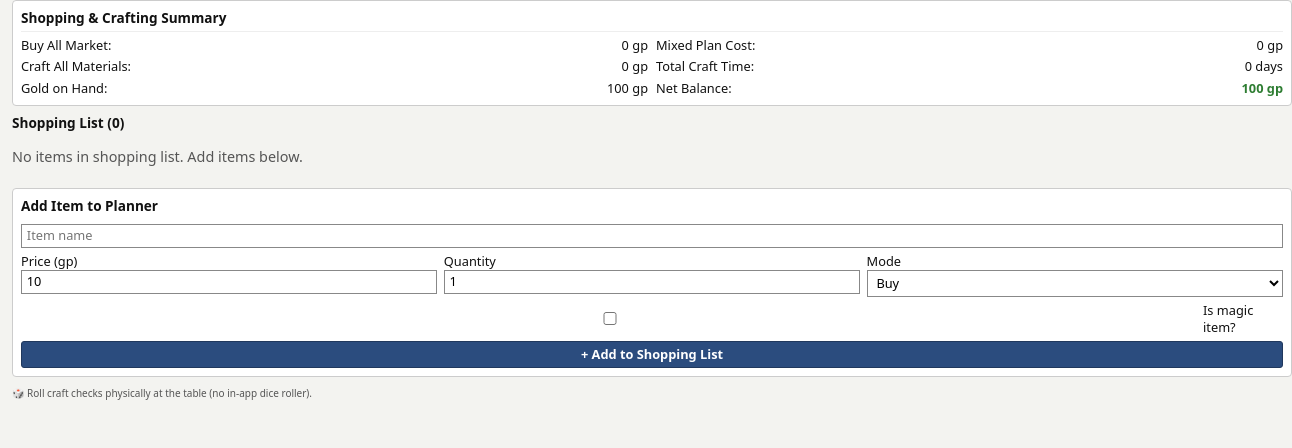
it: BudgetCalculator › adds a typed line and shows its computed cost
In the field labelled "Item name": [652, 236] box [21,224,1283,248], type "Longsword"
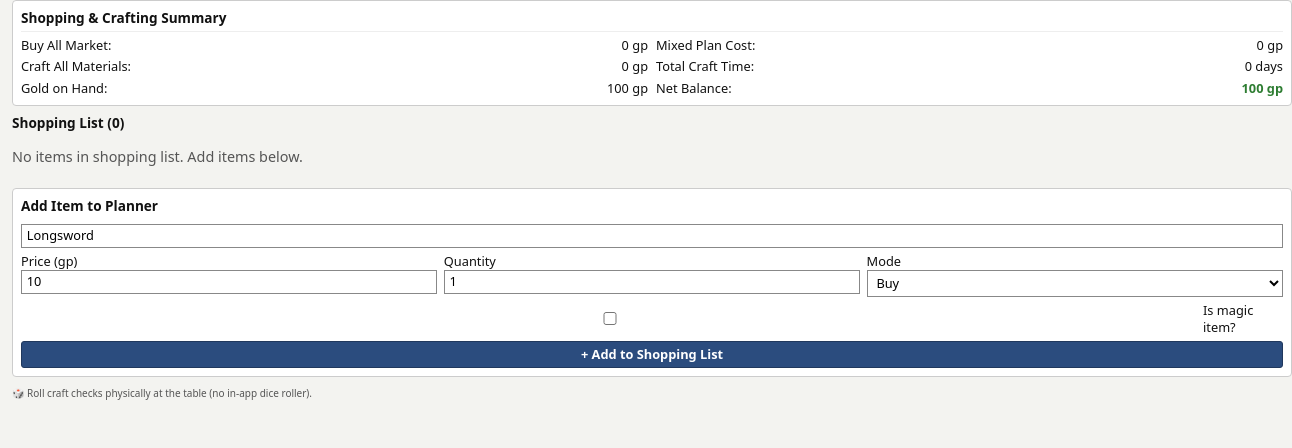
Replace the text in the number field labelled "Price (gp)" with "15": [229, 282] box [21,270,437,294]
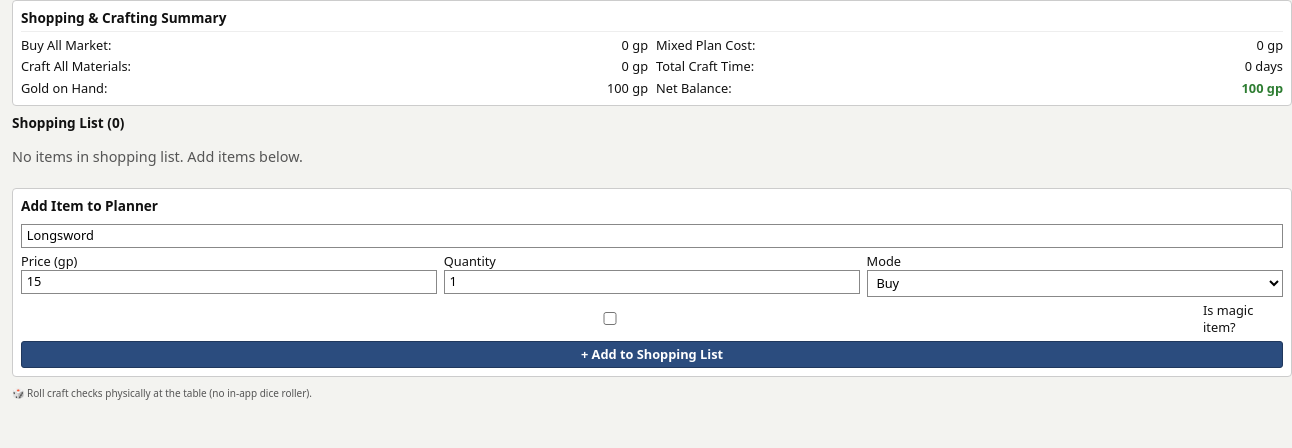
Replace the text in the number field labelled "Quantity" with "2": [652, 282] box [444,270,860,294]
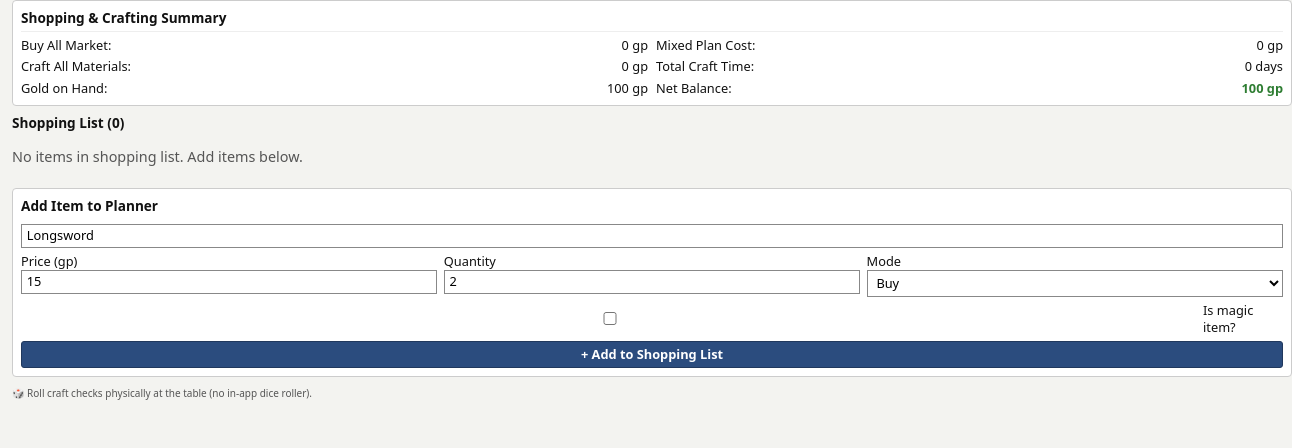
Click the button "+ Add to Shopping List": [652, 354] box [21,341,1283,368]
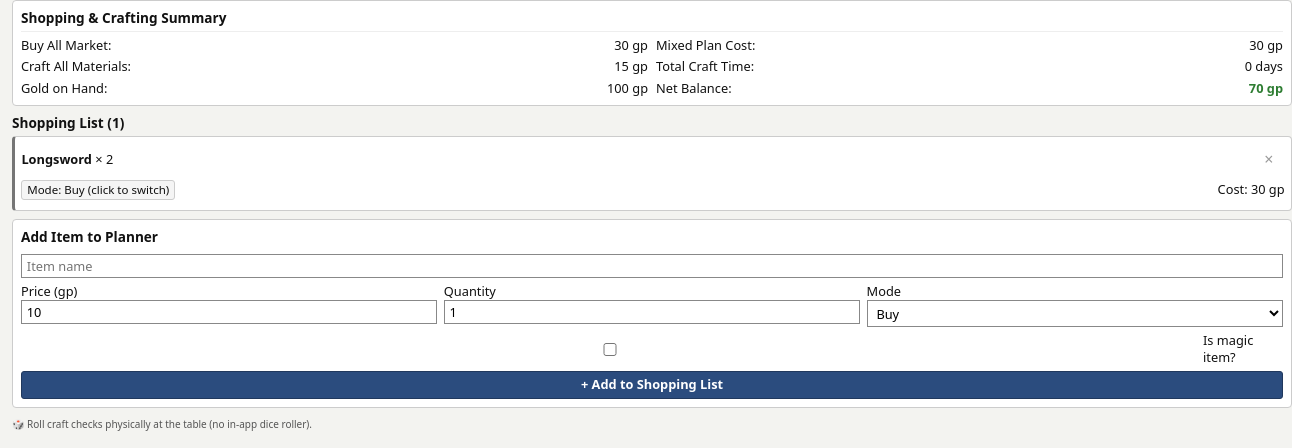
Expected: the text "Longsword" is shown, [21,150,92,168]
Expected: the text "× 2" is shown, [95,150,113,168]
Expected: the text "30 gp" in the row of "Buy All Market" is shown, [614,36,648,54]
